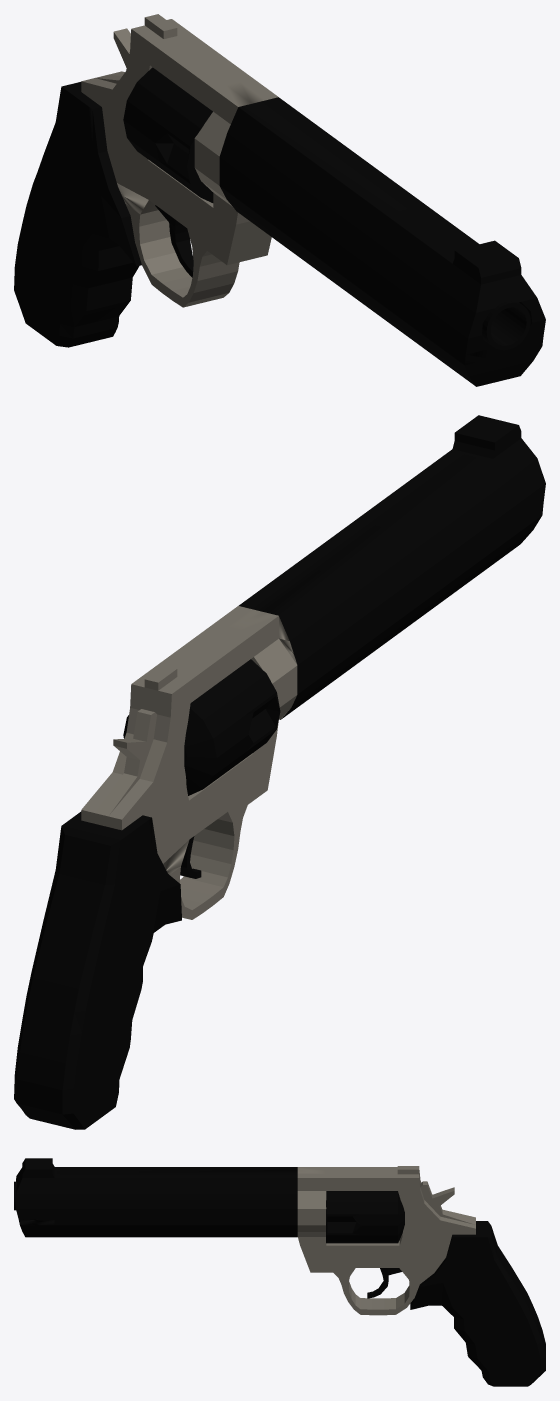
Rendered from 44 Mag Revolver.fbx.
3 views of the same model, one above another, from view 1: azimuth 30°, elevation 25°; view 2: azimuth 150°, elevation 25°; view 3: azimuth 270°, elevation 25° (orthographic). The views are drawn at different scales.
Parts seen in each view (by area): view 1: .44 Mag Revolver; view 2: .44 Mag Revolver; view 3: .44 Mag Revolver.
Part boxes in pixels (box(x1,y1,x2,y2)): .44 Mag Revolver: box(14, 14, 545, 386); .44 Mag Revolver: box(14, 415, 545, 1129); .44 Mag Revolver: box(14, 1158, 545, 1386).
Size of the model in its own units: 0.0392 by 0.1513 by 0.3405.
